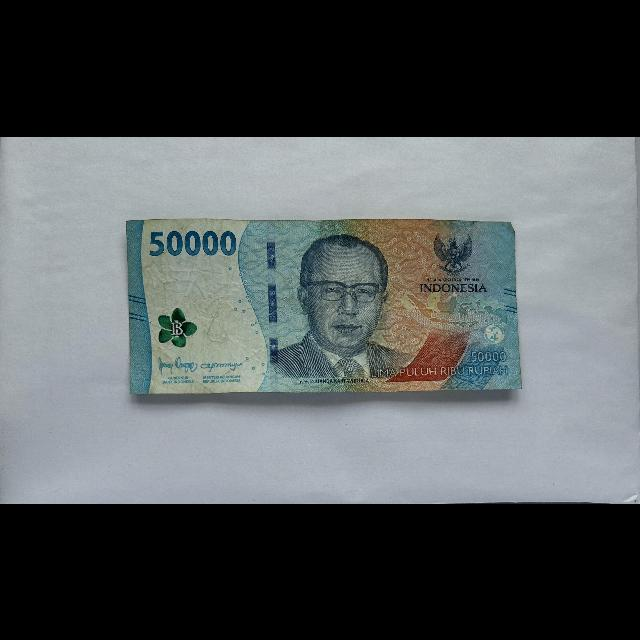Asli-50k: (125, 217, 524, 396)
Tinta-Asli-50k: (157, 306, 198, 348)
